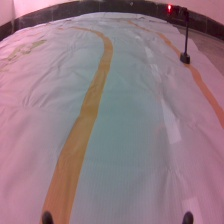red: (164, 3, 191, 65)
